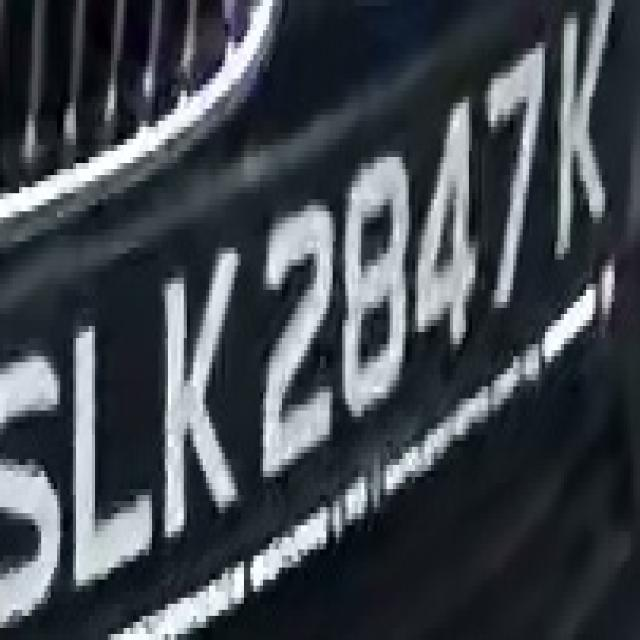2: (254, 181, 342, 501)
4: (409, 85, 478, 356)
7: (478, 36, 552, 326)
8: (339, 145, 409, 417)
K: (156, 236, 232, 550), (554, 12, 621, 254)
L: (66, 296, 158, 586)
S: (0, 320, 63, 628)
